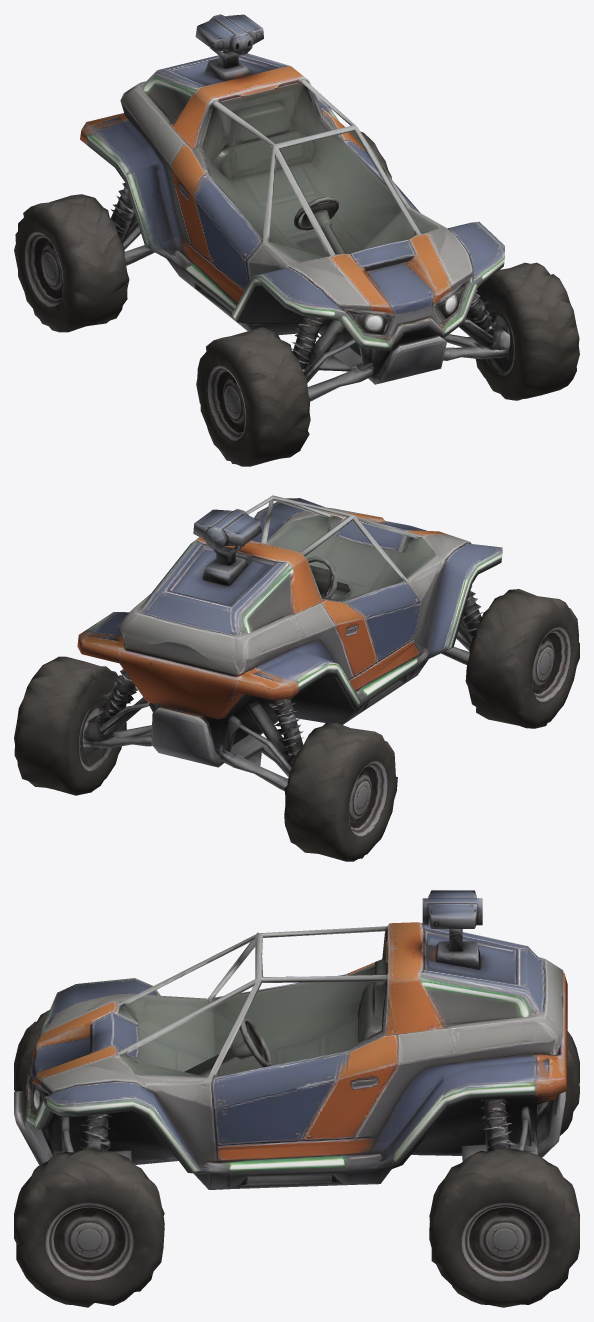
The model's file is champion-rover.glb.
The picture shows the model from 3 angles, top to bottom: view 1: azimuth 30°, elevation 25°; view 2: azimuth 150°, elevation 25°; view 3: azimuth 270°, elevation 25°; orthographic projection. The views are drawn at different scales.
Visible parts, largest first — view 1: Emerald Canopy Rover; view 2: Emerald Canopy Rover; view 3: Emerald Canopy Rover.
Boxes of the visible parts, bbox=[...] form: Emerald Canopy Rover: bbox=[14, 14, 579, 466]; Emerald Canopy Rover: bbox=[14, 495, 579, 861]; Emerald Canopy Rover: bbox=[14, 890, 579, 1307].
Bounding box in the file's own units: 0.752 × 0.627 × 0.998.
1 material, 1 textured.
